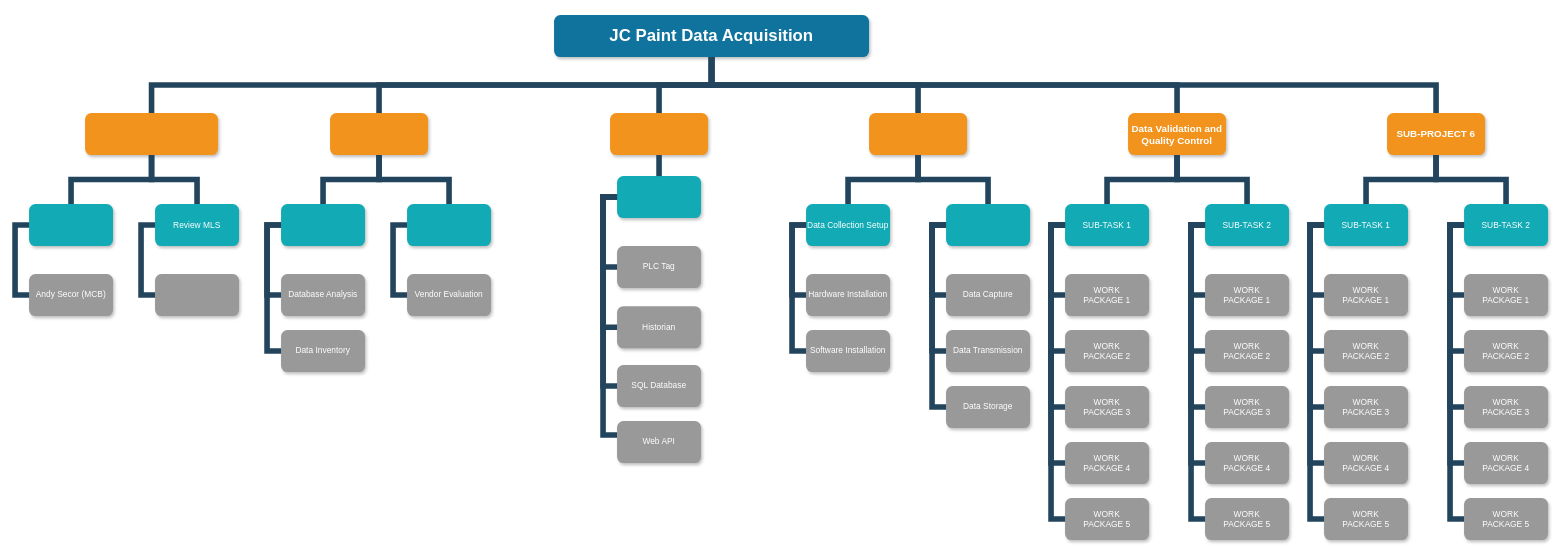
This 1564x557 diagram has some shape labels left out. The shapes that lost their labels are listed below. From the top down, each one's centre as x and y in pixels, then its label:
point (152, 135): Understand Requirements
point (379, 135): Data Source Identification
point (659, 135): Data Collection Design
point (918, 135): Data Collection Implementation
point (659, 198): Data Collection Methods
point (71, 226): Stakeholder Interviews
point (323, 226): Review Current MCB Paint Projects
point (449, 226): External Data Sources
point (988, 226): Data Collection Execution
point (197, 296): Develop WBS
